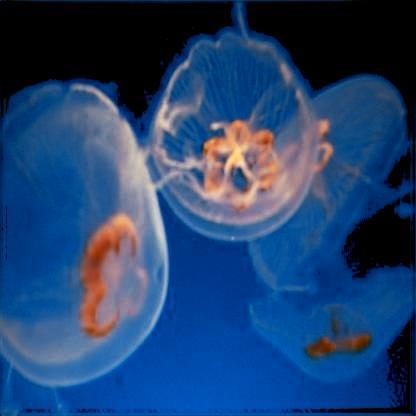Speckle: (3, 89, 170, 387), (244, 78, 403, 296), (155, 39, 320, 241), (246, 296, 410, 382)
